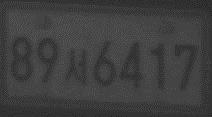1: (150, 40, 169, 92)
4: (118, 41, 146, 89)
6: (92, 40, 117, 87)
7: (173, 42, 199, 91)
8: (10, 35, 33, 83)
9: (36, 36, 58, 84)
서: (65, 46, 89, 85)
